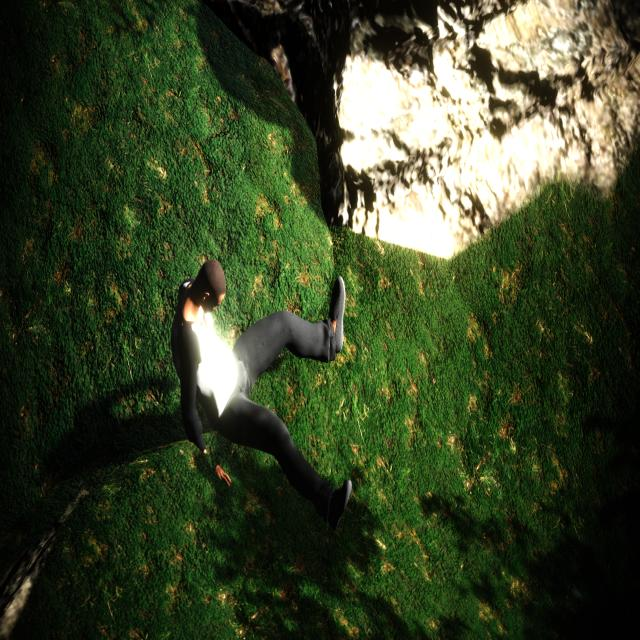Human: (163, 244, 358, 528)
